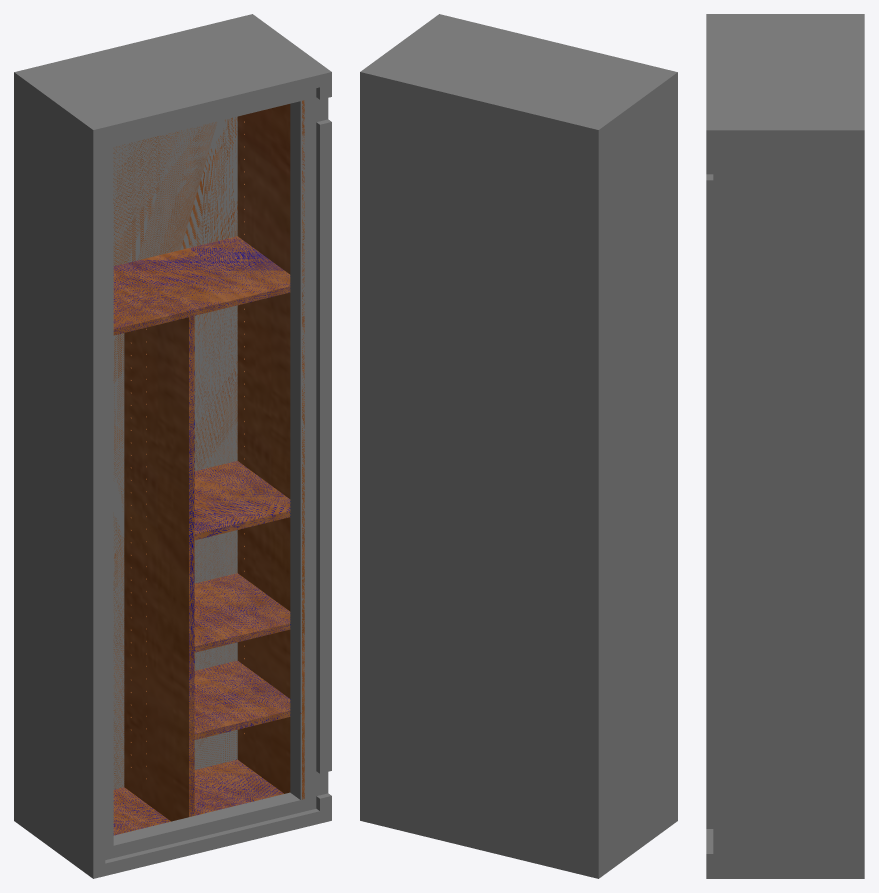
The model's file is frame.dae.
The picture shows the model from 3 angles, left to right: view 1: azimuth 30°, elevation 25°; view 2: azimuth 150°, elevation 25°; view 3: azimuth 270°, elevation 25°; orthographic projection.
Visible parts, largest first — view 1: #ID5.001, #ID1191, #ID49, #ID2474, #ID3390, #ID13, #ID255.003, #ID255.001, #ID255.002, #ID3418, #ID1199, #ID19 (+1 smaller); view 2: #ID5.001; view 3: #ID5.001.
Part boxes in pixels (box(x1,y1,x2,y2)): #ID5.001: box(14, 14, 331, 878); #ID1191: box(124, 317, 188, 821); #ID49: box(113, 116, 237, 789); #ID2474: box(237, 100, 304, 799); #ID3390: box(113, 236, 290, 335); #ID13: box(113, 101, 300, 845); #ID255.003: box(194, 660, 301, 739); #ID255.001: box(194, 573, 290, 652); #ID255.002: box(194, 461, 290, 540); #ID3418: box(194, 759, 283, 815); #ID1199: box(189, 314, 194, 816); #ID19: box(300, 100, 304, 799); #ID5.001: box(360, 14, 677, 878); #ID5.001: box(706, 14, 864, 878).
Size of the model in its own units: 0.594 by 0.3416 by 1.78.
417 materials, 397 textured.
